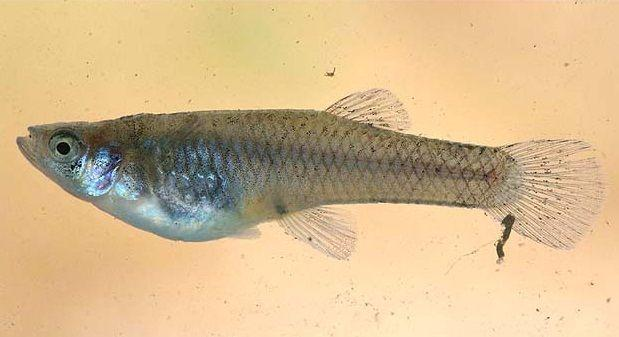Mosquito Fish: (17, 85, 613, 262)
